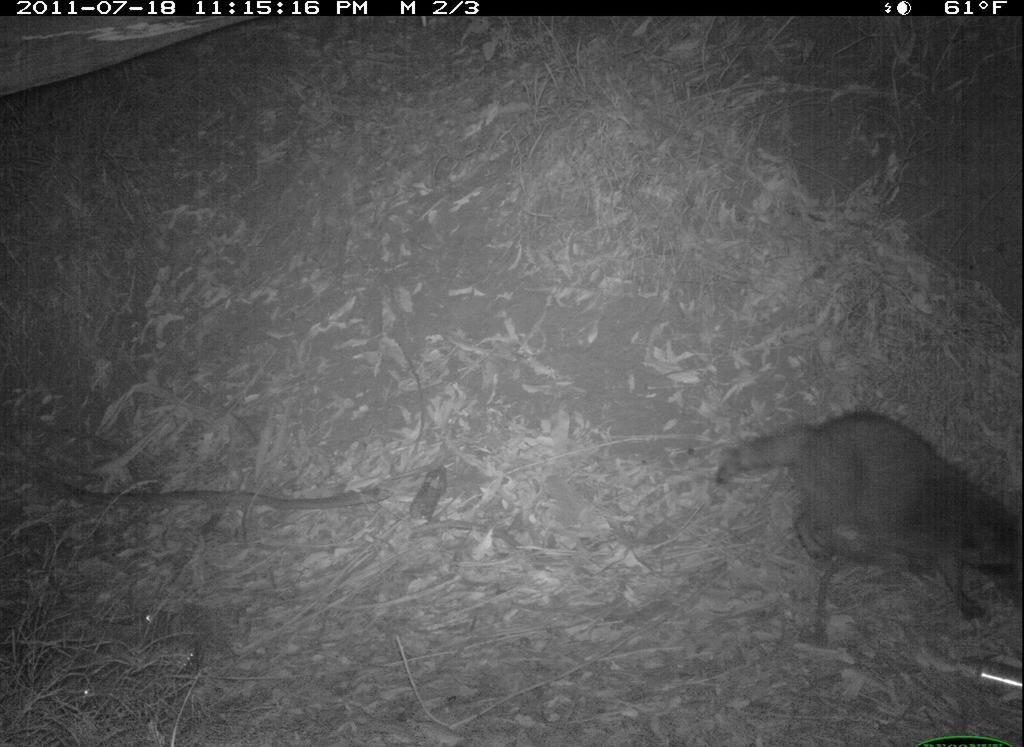raccoon: (711, 405, 1019, 616)
